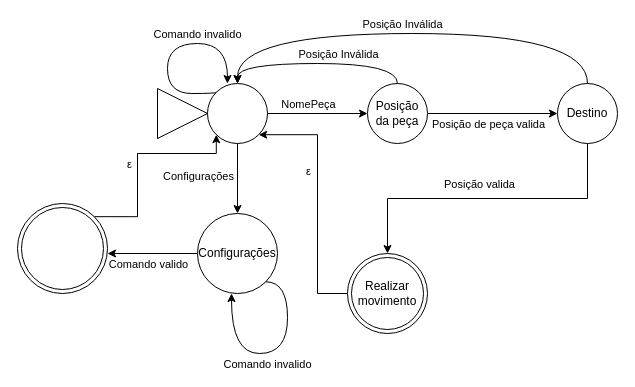
The diagram is 635 pixels wide and 387 high, and some of its shapes have lost their labels. The shapes that lost their labels are listed below. From the top down, each one's box as (x1, y1, x2, y2) in pixels, then its label:
(206, 82, 268, 144): Comando
(16, 202, 108, 294): Realiza configuração
